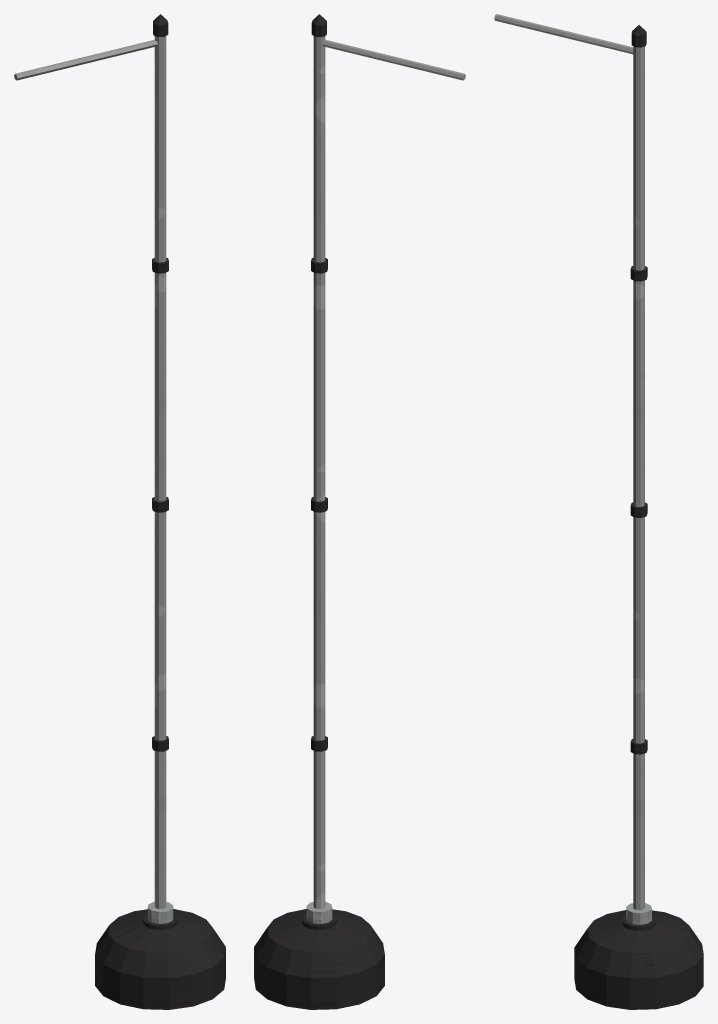
Rendered from nobori_pole.glb.
3 views of the same model, side by side, from view 1: azimuth 30°, elevation 25°; view 2: azimuth 150°, elevation 25°; view 3: azimuth 330°, elevation 25° (orthographic).
Visible parts, largest first — view 1: p; view 2: p; view 3: p.
Part boxes in pixels (x1,y1,x2,y2): p: (14, 14, 225, 1009); p: (254, 14, 465, 1009); p: (494, 14, 703, 1009).
Bounding box in the file's own units: 0.53 × 2.43 × 0.3.
2 materials, 2 textured.
